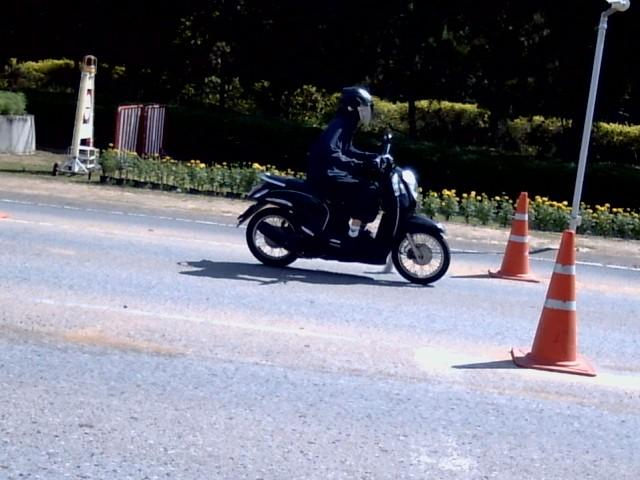helmet: (337, 85, 372, 125)
motor: (237, 159, 449, 284)
person: (307, 86, 390, 247)
